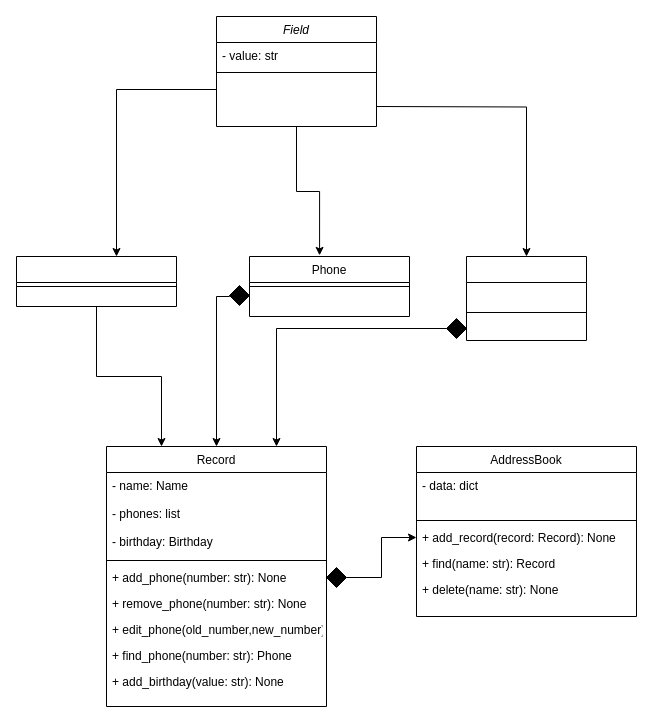
The diagram is 653 pixels wide and 723 high, and some of its shapes have lost their labels. Here are the shapes that lost their labels. From the top down, the centre of each, then its label:
At (96,281): "Name".
At (526,298): "Birthday".
